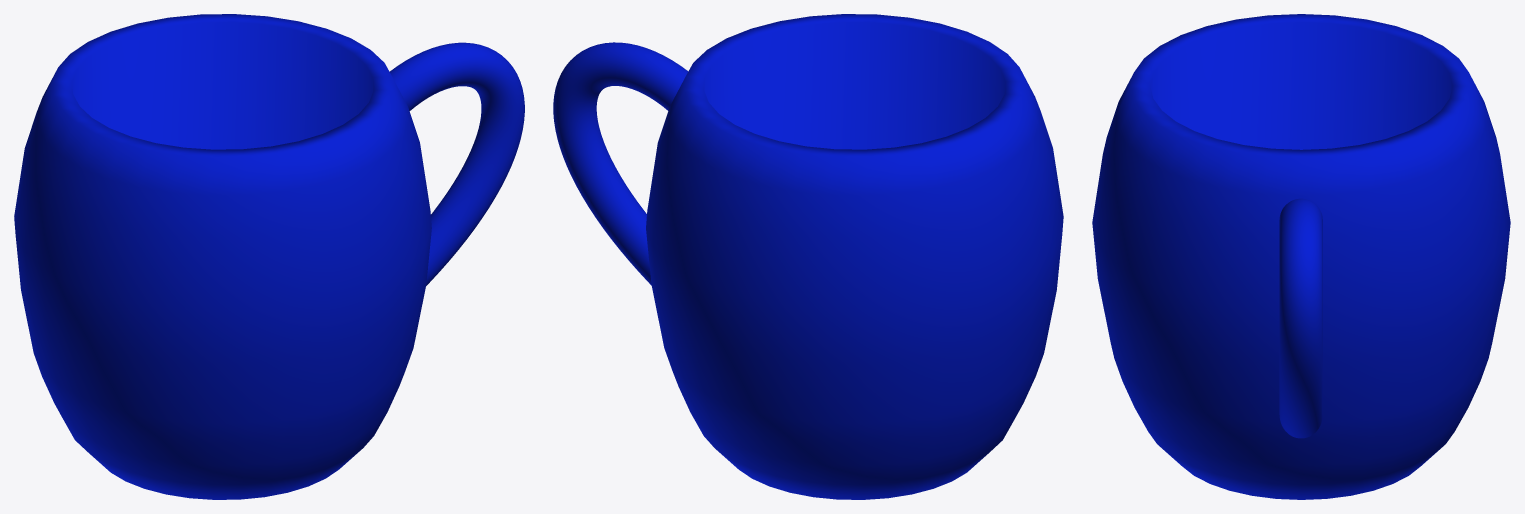
Rendered from taza.fbx.
3 renders of one model, left to right at view 1: azimuth 30°, elevation 25°; view 2: azimuth 150°, elevation 25°; view 3: azimuth 270°, elevation 25°, orthographic.
Parts seen in each view (by area): view 1: Circle; view 2: Circle; view 3: Circle.
Boxes of the visible parts, x1,y1,x2,y2 form: Circle: [14, 14, 524, 499]; Circle: [553, 14, 1063, 499]; Circle: [1092, 14, 1510, 499].
Bounding box in the file's own units: 428 × 306 × 323.
